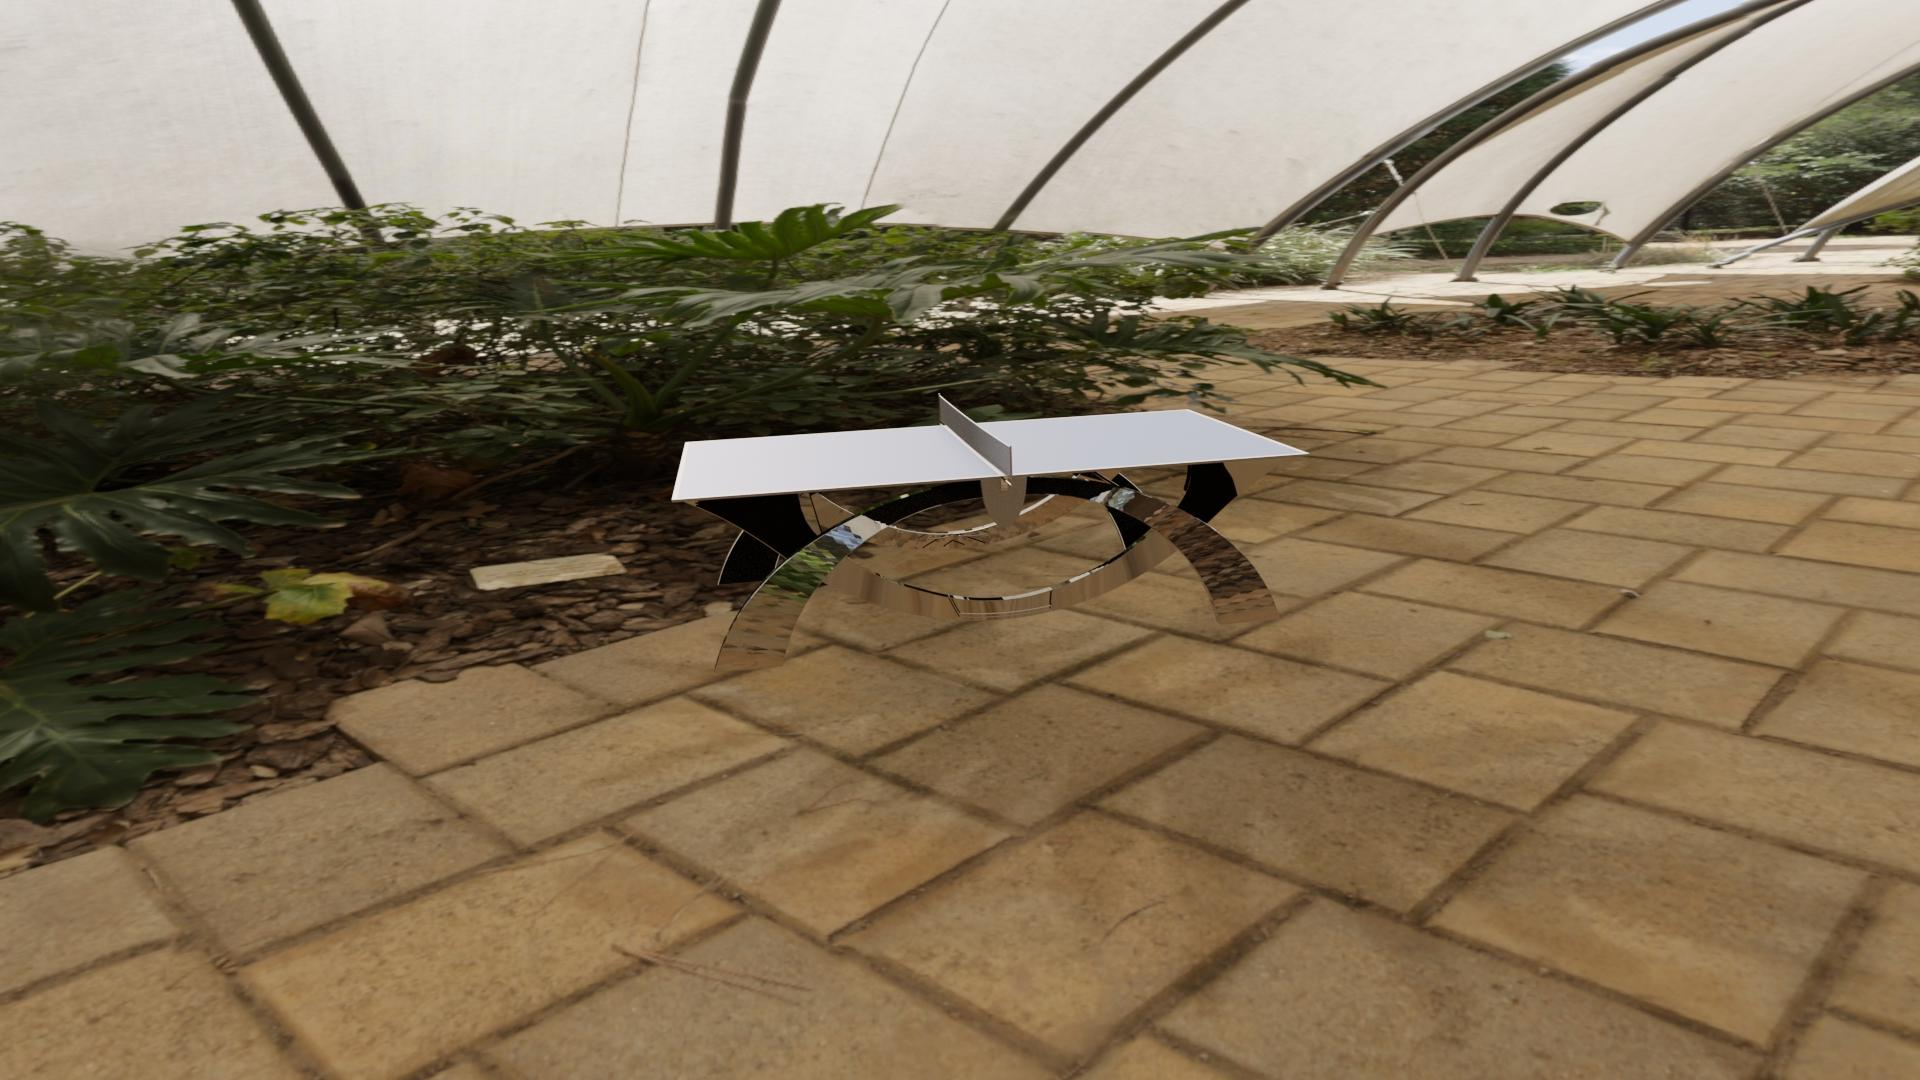table: (676, 410, 1303, 498)
